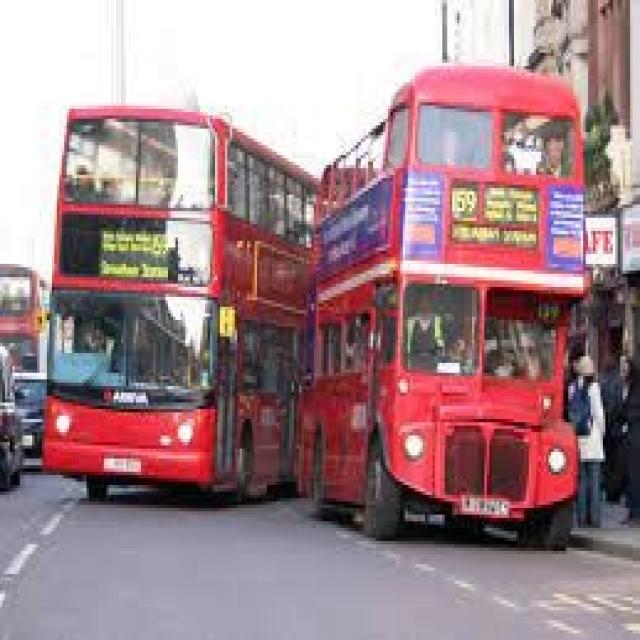bus: (301, 52, 613, 580), (26, 59, 306, 521)
